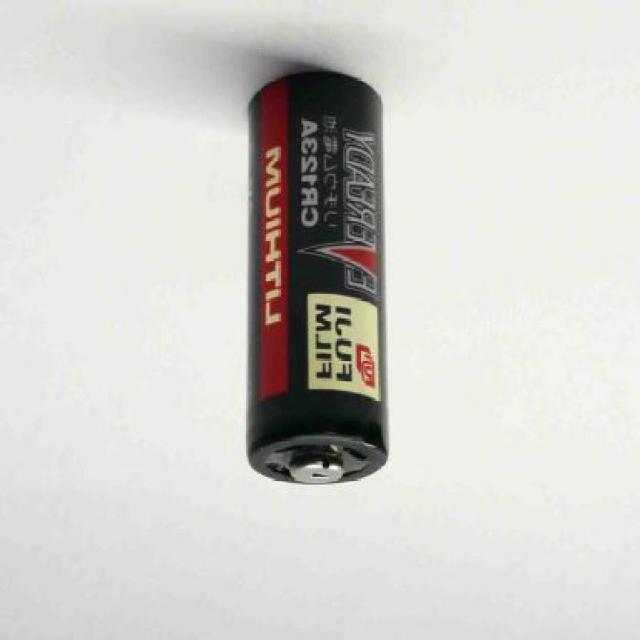AA: (245, 68, 392, 500)
